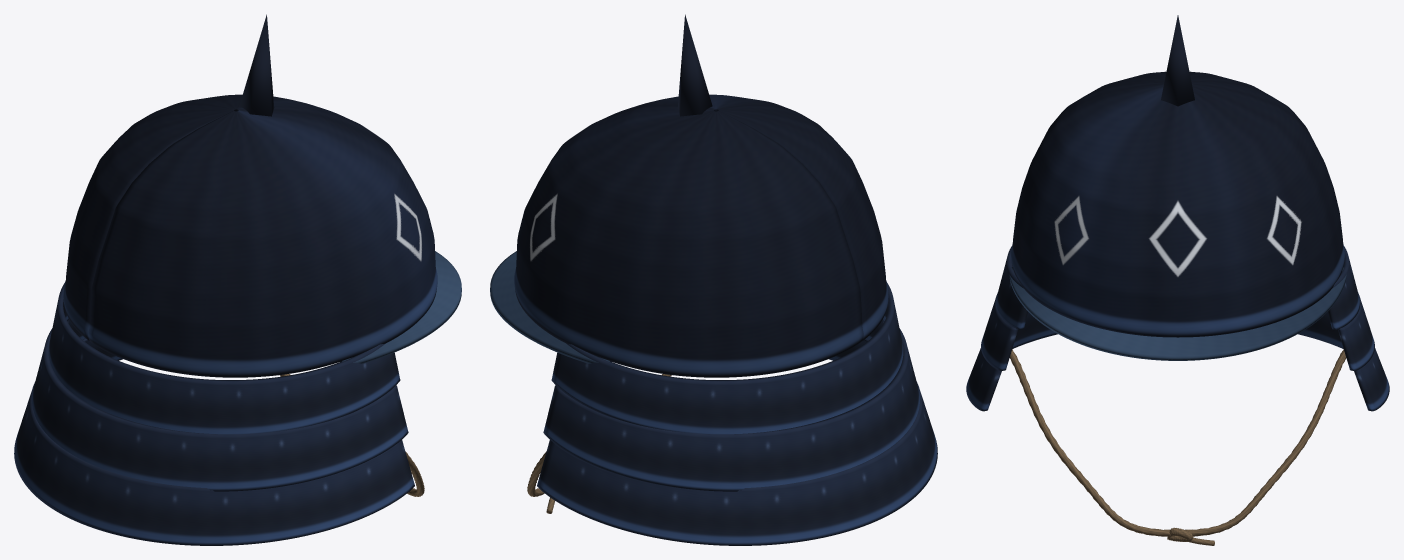
Rendered from side_kisada_portrait_kabuto.glb.
3 views of the same model, side by side, from view 1: azimuth 30°, elevation 25°; view 2: azimuth 150°, elevation 25°; view 3: azimuth 270°, elevation 25° (orthographic). The views are drawn at different scales.
Visible parts, largest first — view 1: Indigo armor; view 2: Indigo armor; view 3: Indigo armor, Braided ties.
Boxes of the visible parts, box(x1,y1,x2,y2) form: Indigo armor: box(14, 14, 461, 545); Indigo armor: box(490, 14, 937, 545); Indigo armor: box(966, 15, 1389, 411); Braided ties: box(1009, 349, 1346, 545).
Size of the model in its own units: 19.7 by 24.48 by 19.62.
2 materials, 2 textured.
